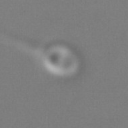normal: (1, 29, 44, 57)
